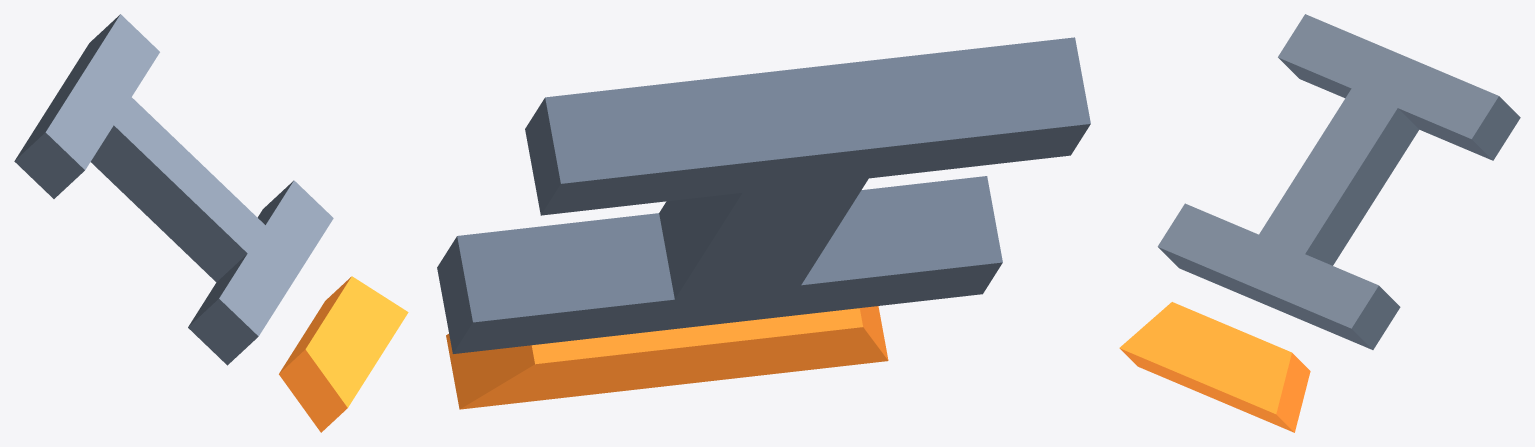
Rendered from steel_works.glb.
The picture shows the model from 3 angles, left to right: view 1: azimuth 30°, elevation 25°; view 2: azimuth 150°, elevation 25°; view 3: azimuth 270°, elevation 25°; orthographic projection. The views are drawn at different scales.
Visible parts, largest first — view 1: steel_works; view 2: steel_works; view 3: steel_works.
Boxes of the visible parts, x1,y1,x2,y2 form: steel_works: (14,14,408,432); steel_works: (437,37,1090,409); steel_works: (1119,14,1520,432).
Bounding box in the file's own units: 1.23 × 0.8996 × 1.23.
